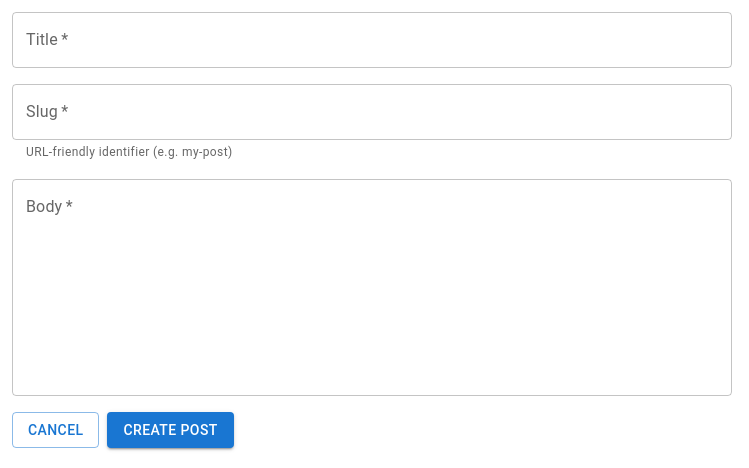
Test: NewPostForm › should auto-generate slug from title
The width and height of the screenshot is (749, 468).
Type "My Test Post!" into the field labelled "Title *" at (372,40), box [12, 12, 732, 68]
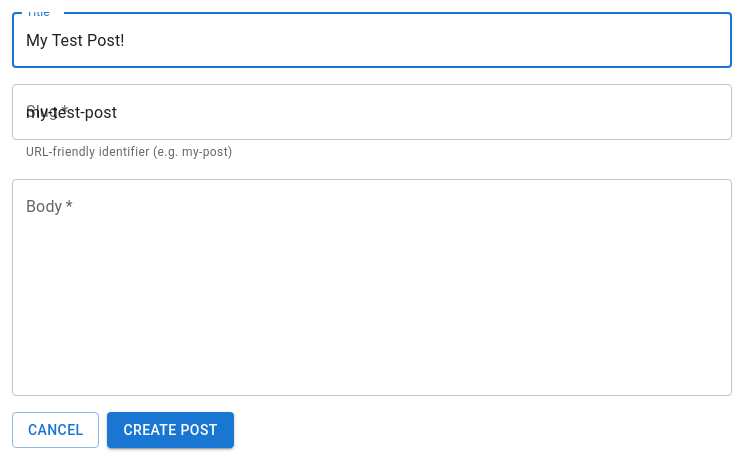
Expected: the field labelled "Slug *" holds "my-test-post", [12, 84, 732, 140]
